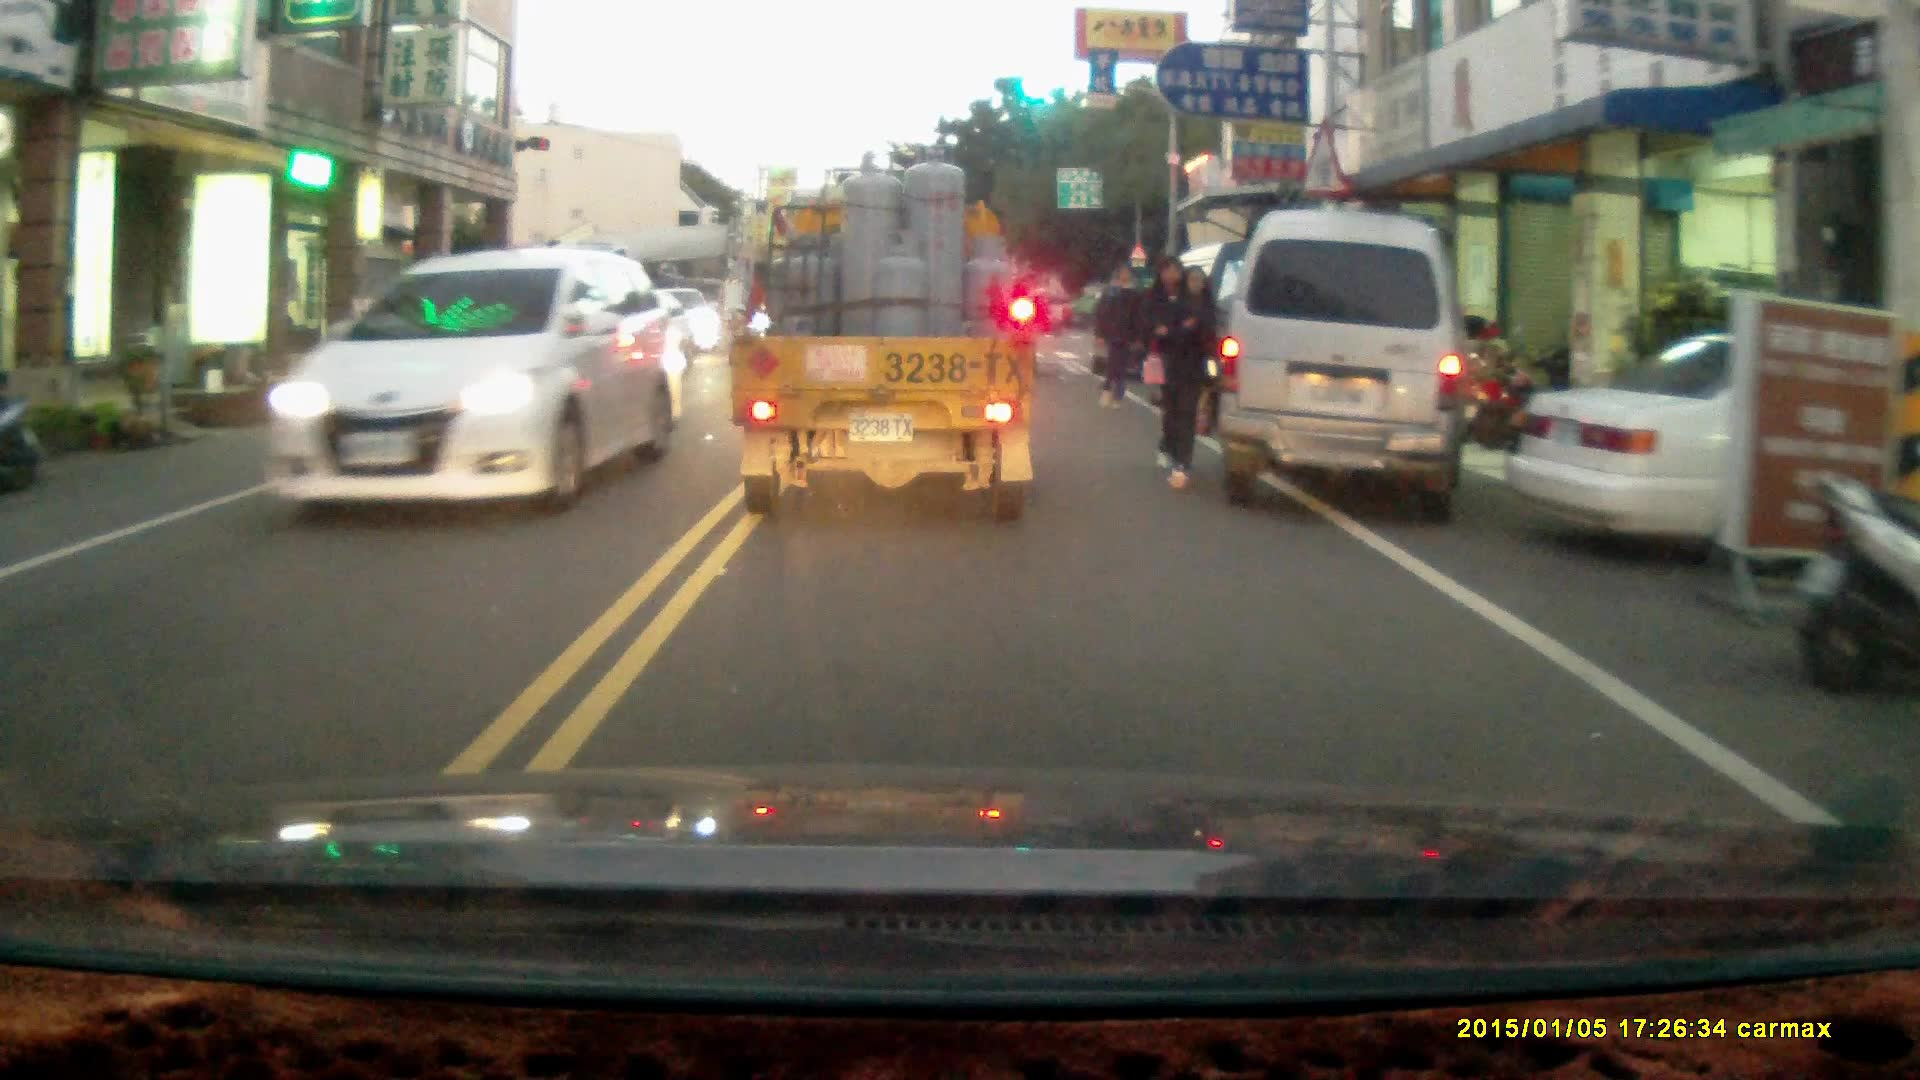pedestrian: (1137, 254, 1208, 494), (1093, 261, 1144, 412)
rider: (1027, 286, 1058, 337)
vehicle: (723, 141, 1040, 523), (264, 247, 684, 513), (1500, 327, 1920, 587), (1211, 208, 1477, 515)
